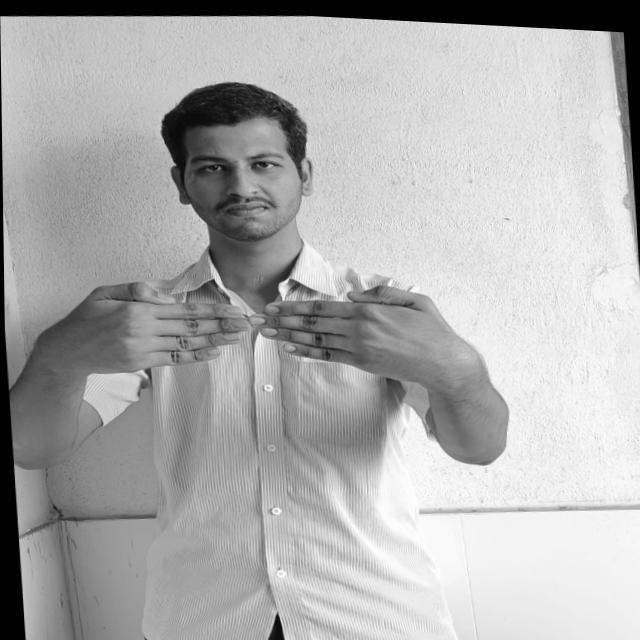Night: (36, 259, 452, 394)
